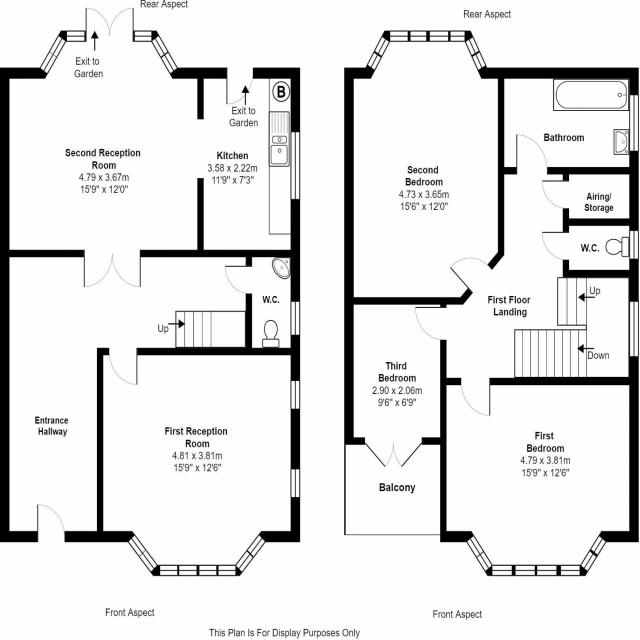DOOR: (448, 256, 493, 295), (459, 376, 492, 418), (516, 133, 549, 175), (414, 305, 447, 342), (108, 347, 139, 386), (36, 503, 66, 543), (541, 230, 570, 262), (541, 179, 570, 210)
DOUBLE DOOR: (80, 248, 146, 292), (84, 4, 135, 42)
ROOM: (0, 5, 301, 290), (96, 347, 301, 577), (344, 28, 505, 305), (440, 376, 639, 577), (344, 296, 447, 470)
WINDOW: (234, 533, 267, 573), (491, 564, 581, 578), (127, 534, 159, 573), (38, 32, 67, 74), (579, 533, 607, 574), (151, 34, 178, 75), (159, 563, 236, 577), (465, 534, 493, 571), (390, 29, 465, 42), (463, 35, 487, 74), (366, 34, 390, 72), (289, 131, 301, 201), (628, 93, 640, 153), (627, 301, 639, 358), (290, 300, 301, 336), (289, 379, 301, 411), (290, 468, 301, 499), (628, 230, 639, 261), (132, 30, 152, 43), (66, 30, 86, 42)
